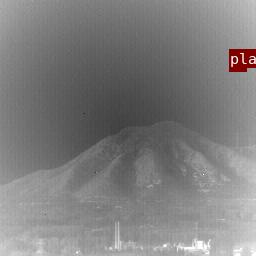plane: (229, 49, 246, 71)
